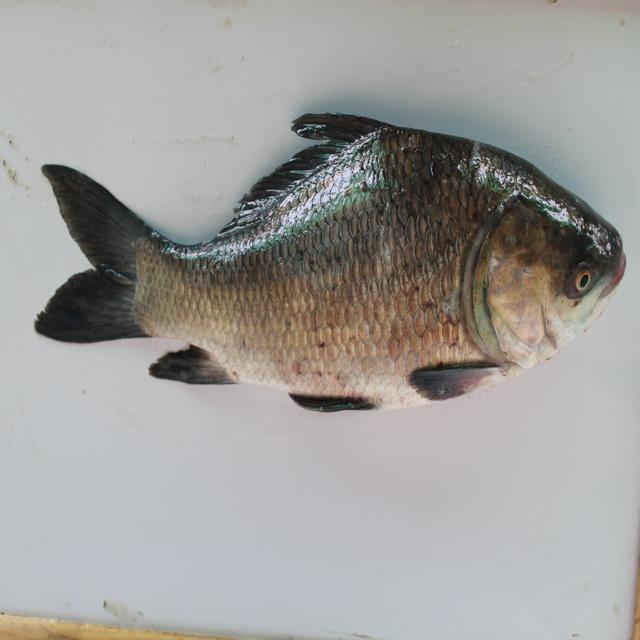Catla: (30, 107, 625, 415)
